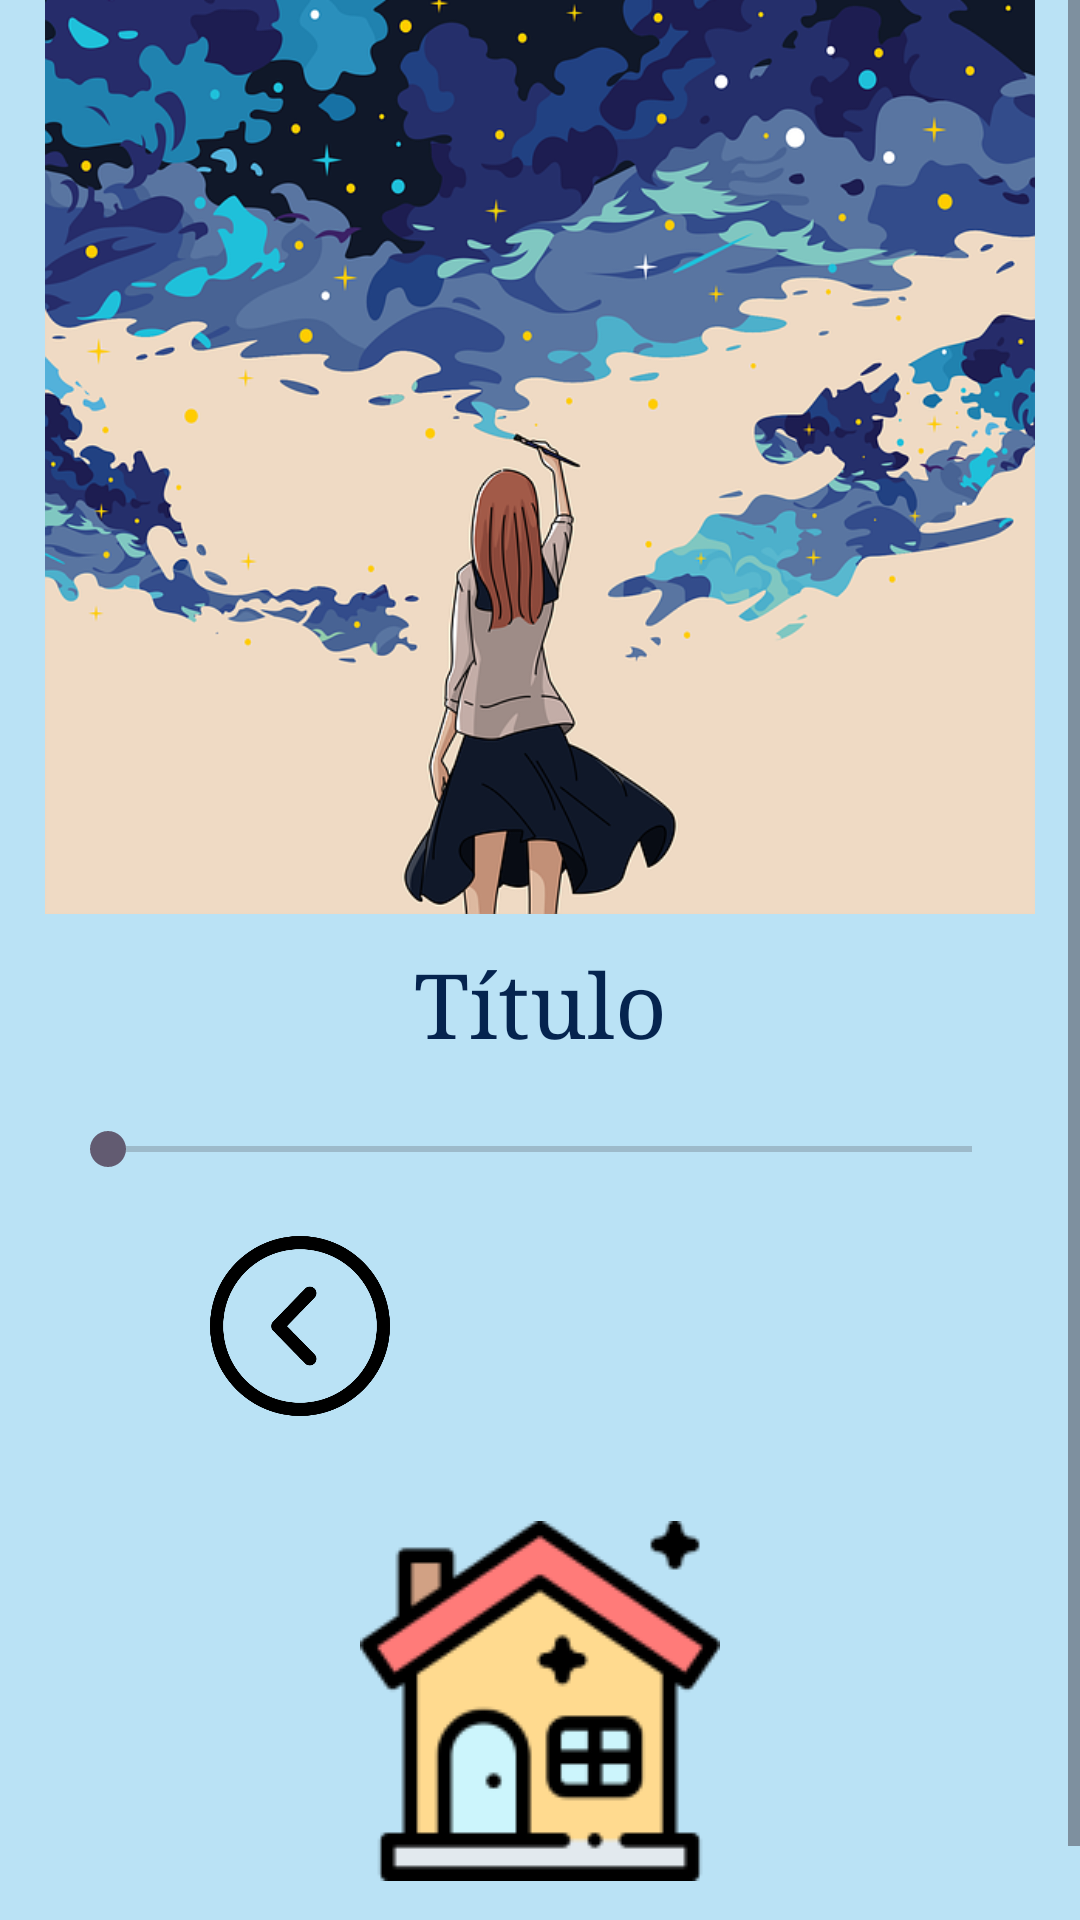

Screen size 1080*1920. Icon name, then its center in pixels as [x,y]:
home: [540,1701]
previous: [300,1326]
